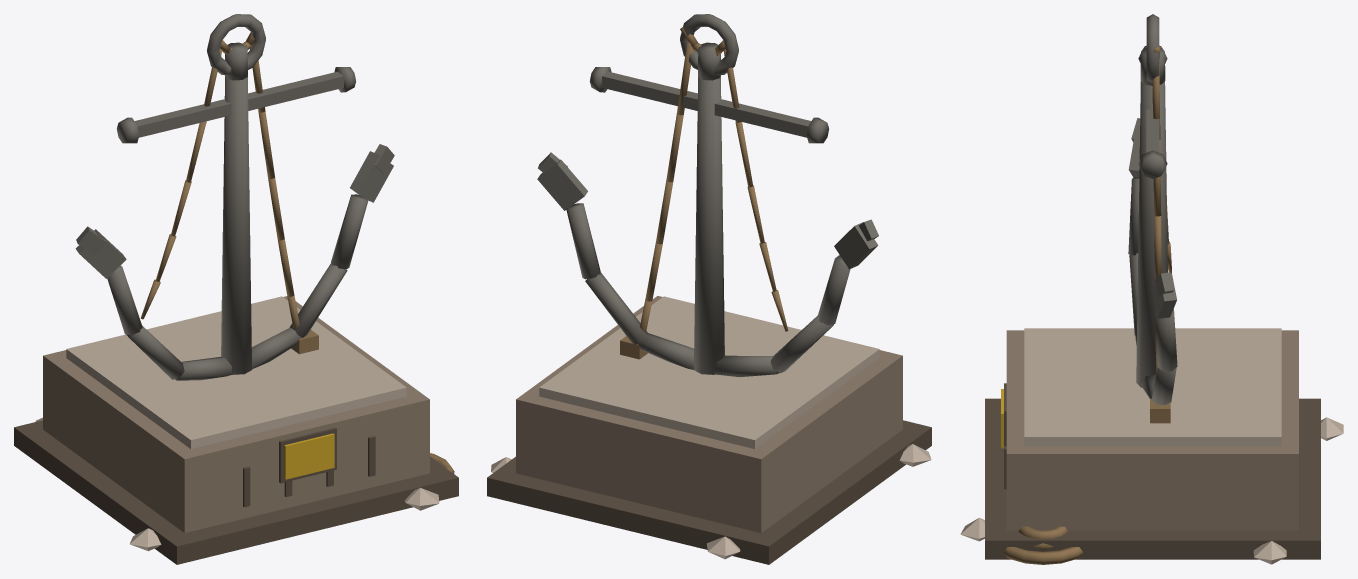
Rendered from AnchorMonument.fbx.
3 views of the same model, side by side, from view 1: azimuth 30°, elevation 25°; view 2: azimuth 150°, elevation 25°; view 3: azimuth 270°, elevation 25° (orthographic). The views are drawn at different scales.
Visible parts, largest first — view 1: AnchorMonument; view 2: AnchorMonument; view 3: AnchorMonument.
Part boxes in pixels (bbox=[...]): AnchorMonument: bbox=[14, 14, 458, 564]; AnchorMonument: bbox=[487, 14, 931, 564]; AnchorMonument: bbox=[960, 14, 1343, 564].
Size of the model in its own units: 268 by 358 by 262.
